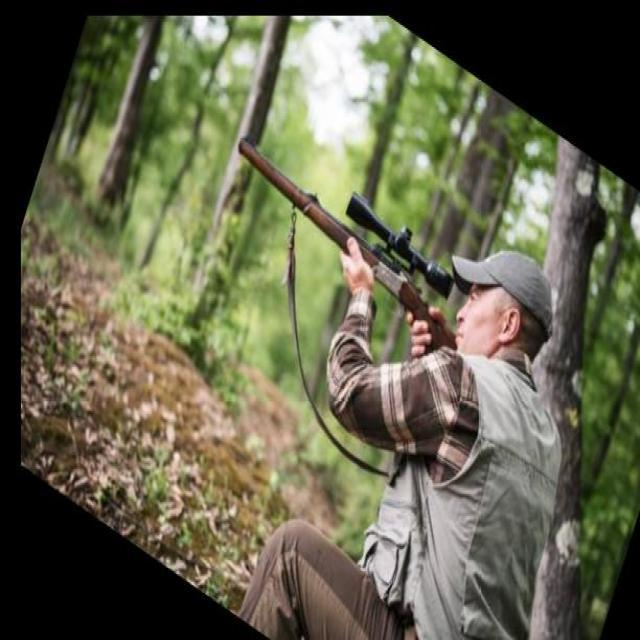weapon: (238, 136, 458, 356)
